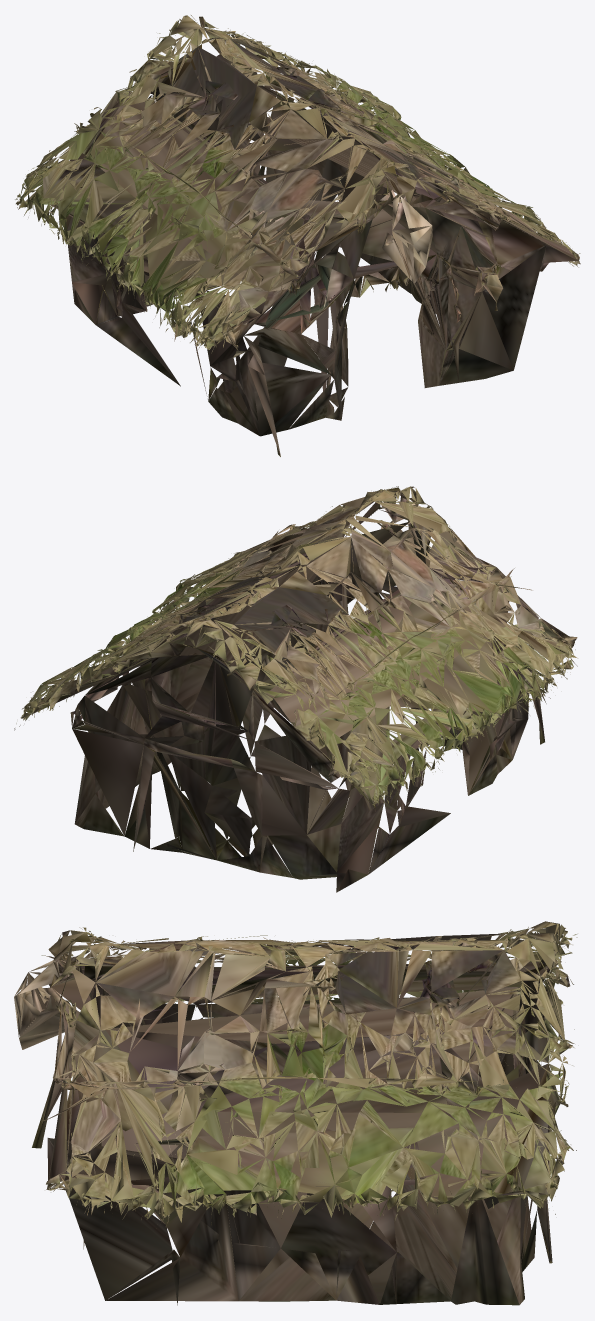
File: hornschaedel_huette.glb
The picture shows the model from 3 angles, top to bottom: view 1: azimuth 30°, elevation 25°; view 2: azimuth 150°, elevation 25°; view 3: azimuth 270°, elevation 25°; orthographic projection. The views are drawn at different scales.
Bounding box in the file's own units: 1.72 × 1.07 × 1.85.
1 material, 1 textured.
